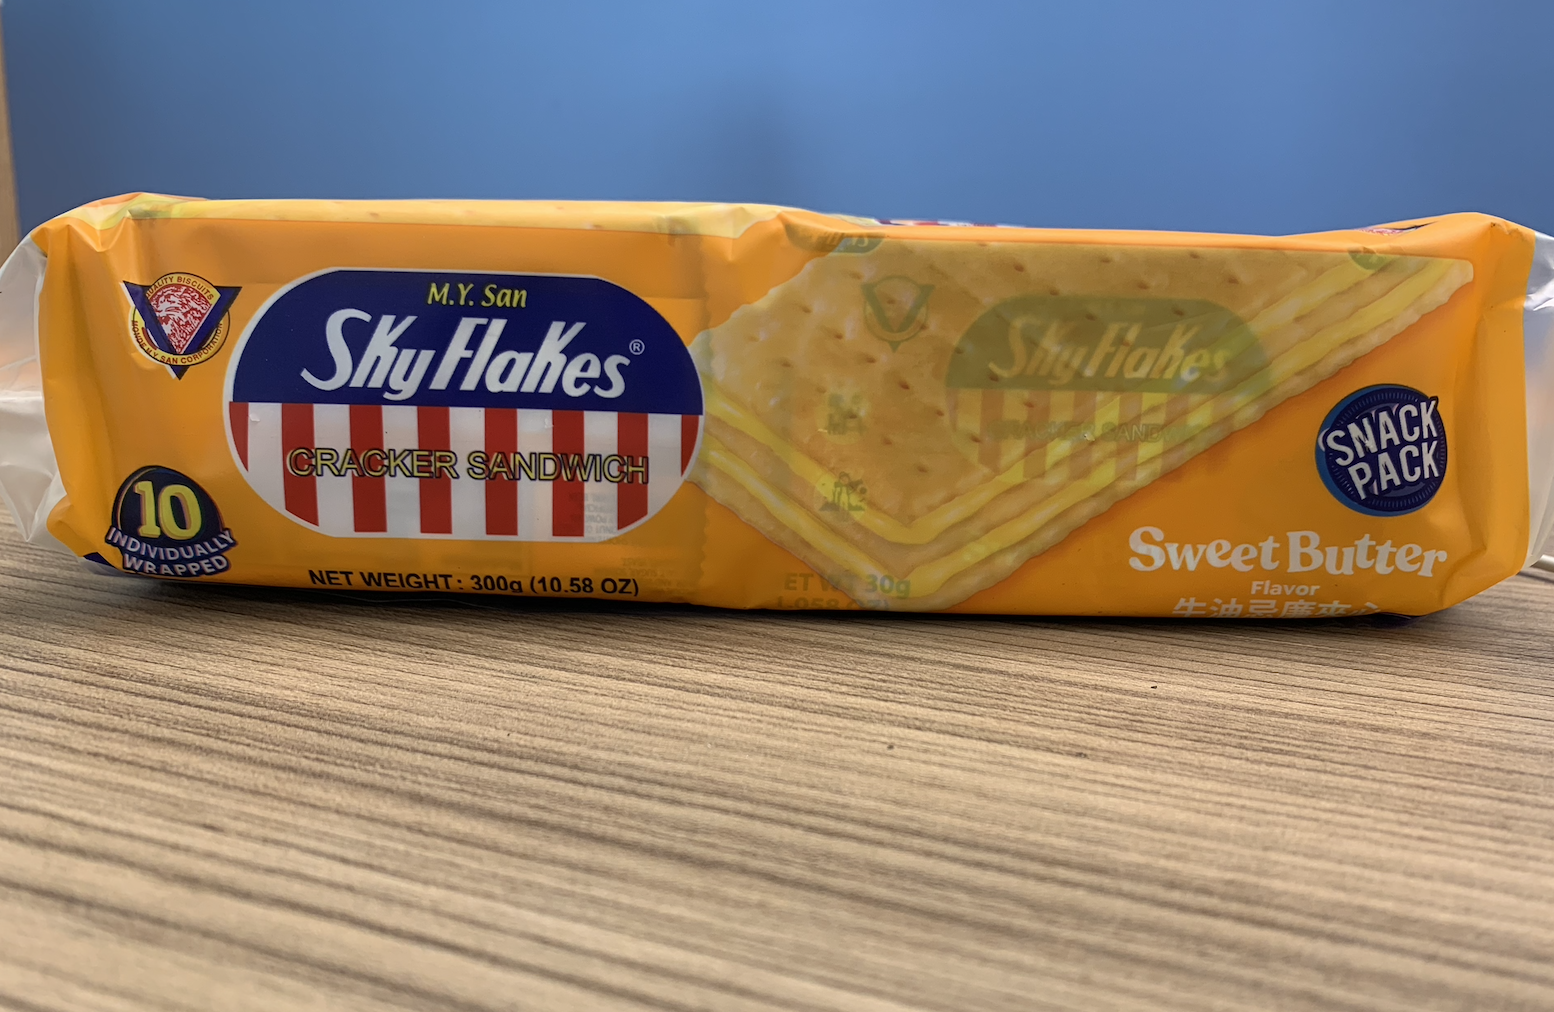crackers_450g: (88, 233, 1492, 599)
